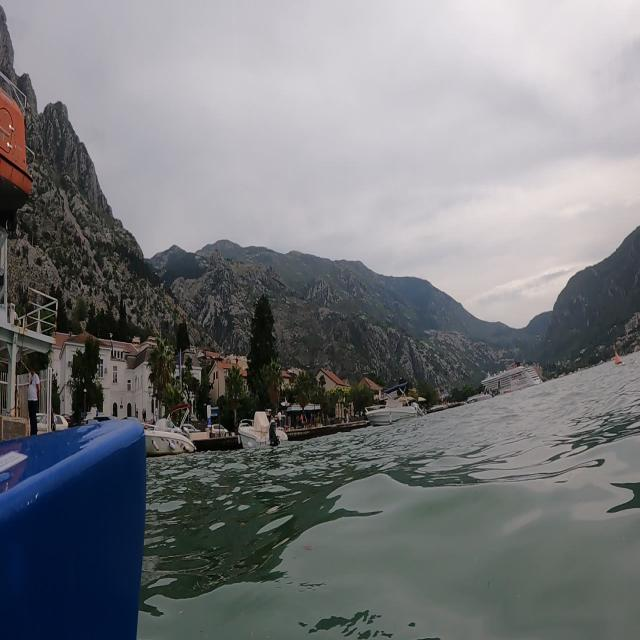boat: (360, 378, 438, 441), (136, 397, 207, 461), (239, 399, 296, 458), (477, 362, 552, 399)
